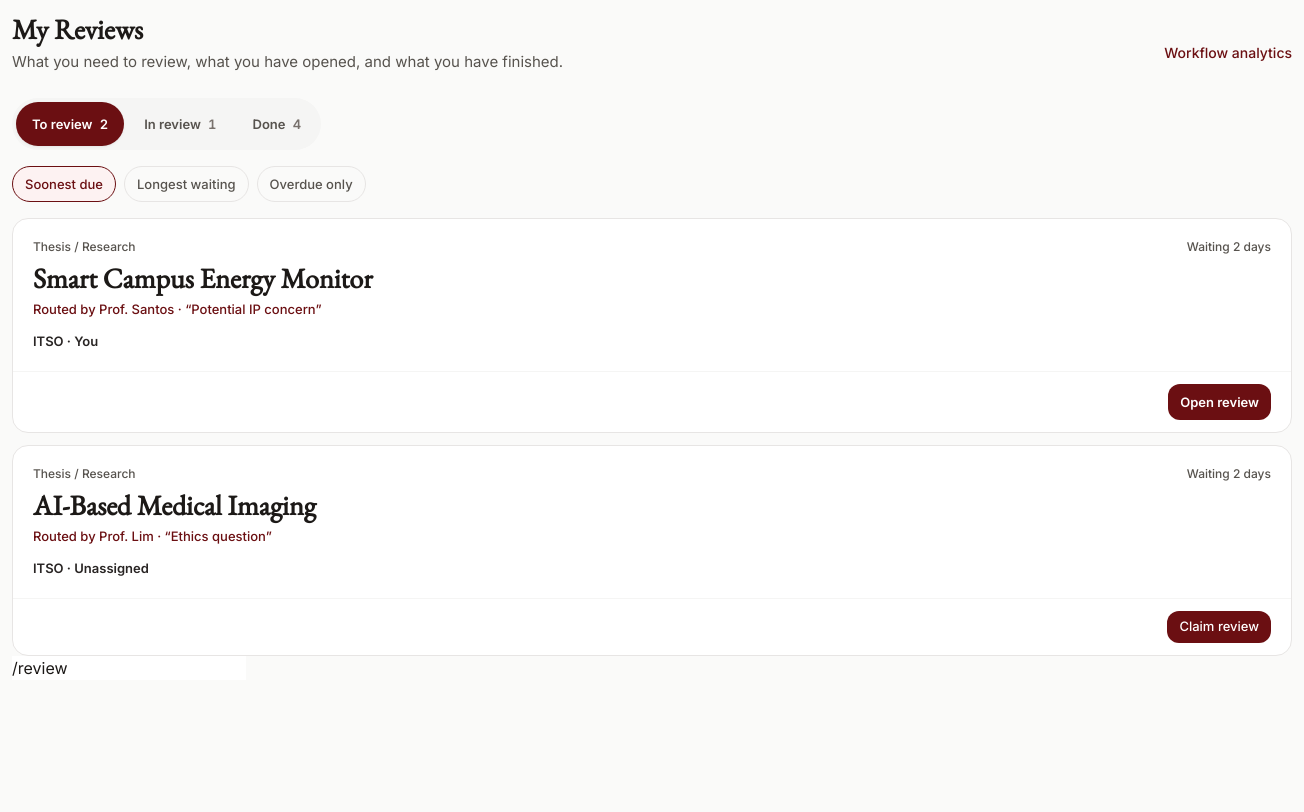
MyReviewsPage due dates (IR-622) › asks for soonest due by default, and keeps a changed sort and filter in the URL
Click the button "Longest waiting" at (186, 184), box [124,166,249,202]
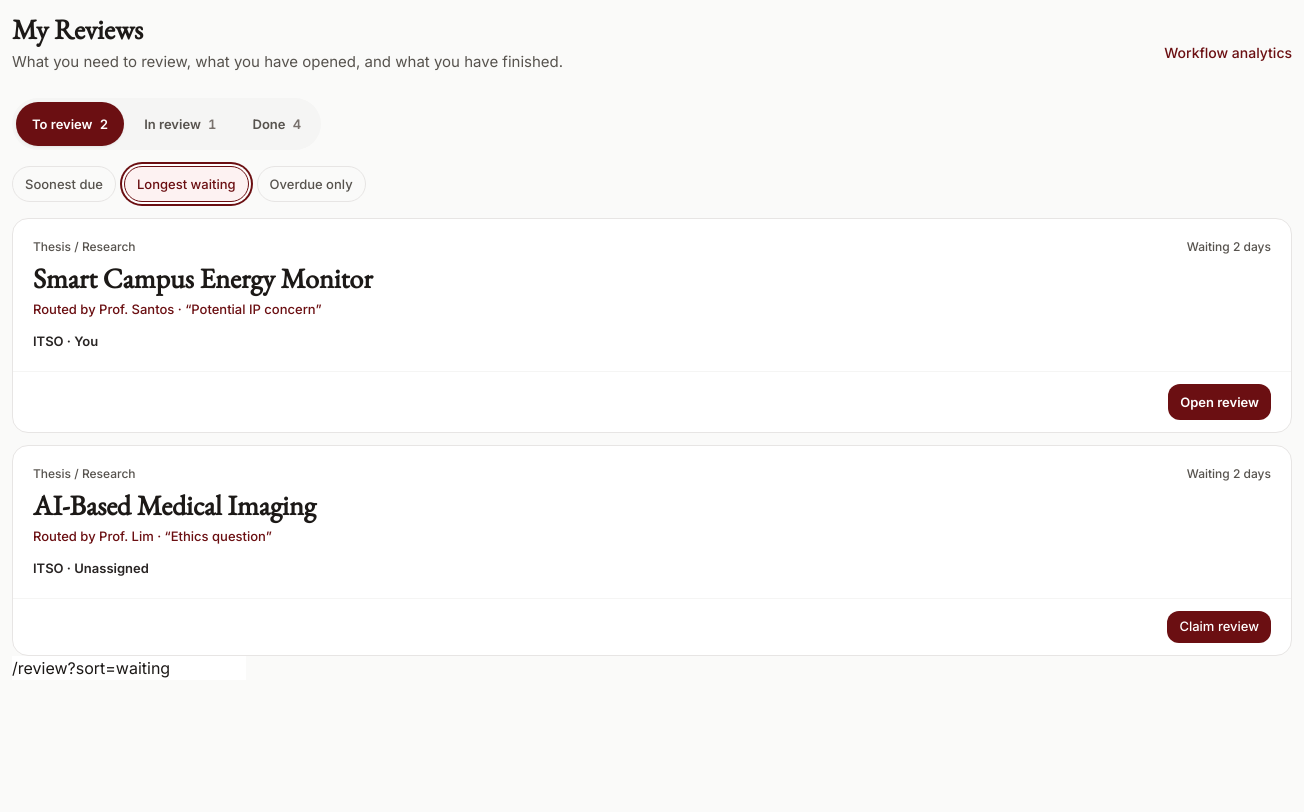
Click the button "Overdue only" at (311, 184), box [257,166,366,202]
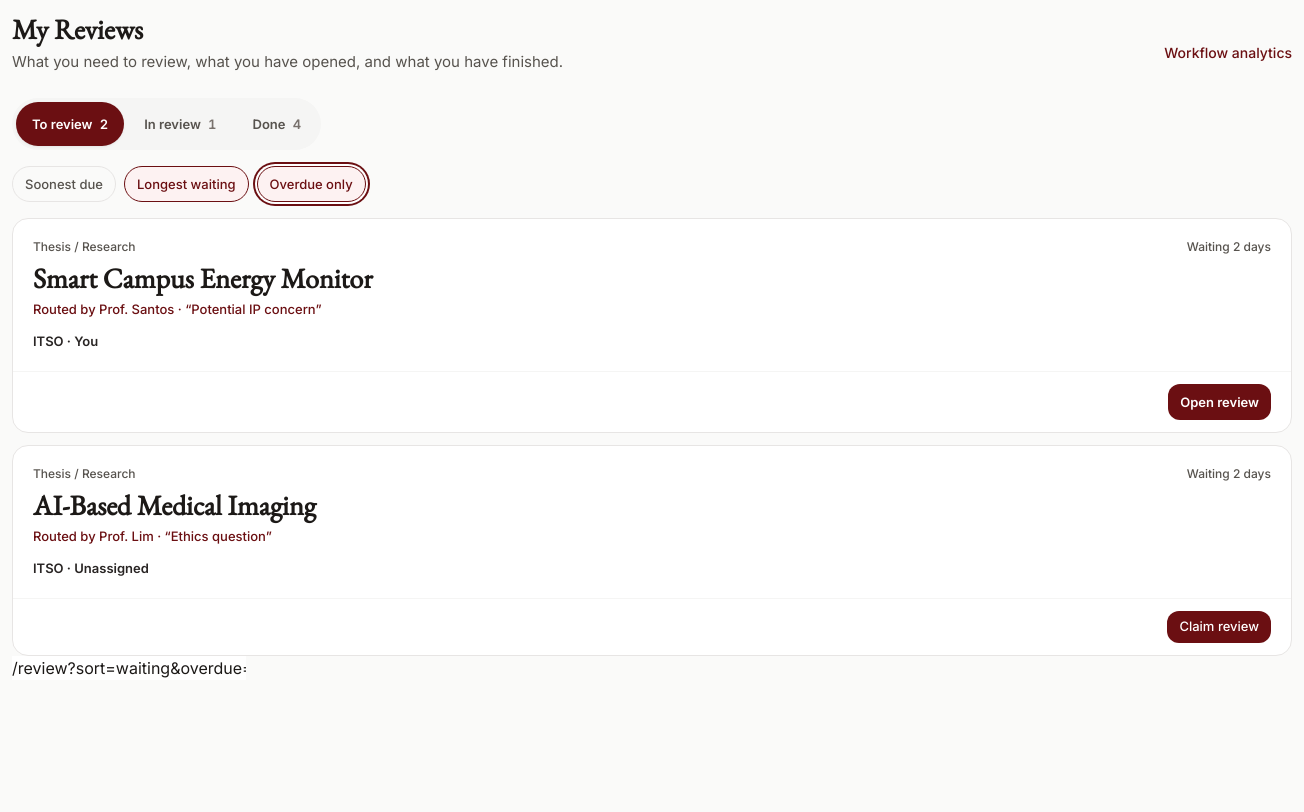
Expected: the field named "Location" holds "/review?sort=waiting&overdue=1", [12,656,246,680]
